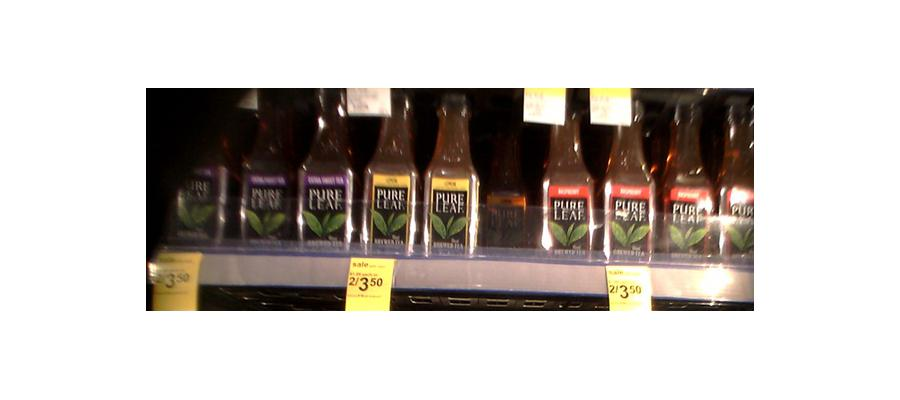bottle: (420, 90, 478, 256), (543, 96, 602, 251), (362, 83, 416, 252), (601, 94, 654, 263), (298, 87, 354, 244), (171, 98, 226, 242), (661, 97, 709, 261), (244, 91, 292, 241), (716, 98, 754, 258), (486, 118, 527, 246)
